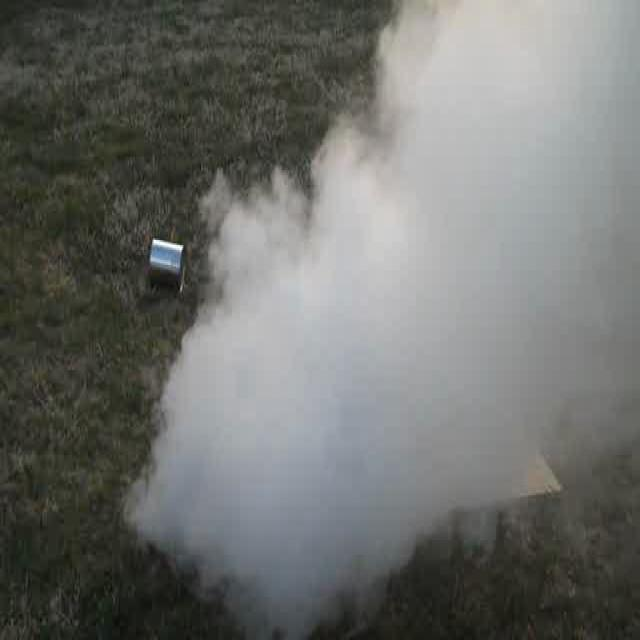Smoke: (172, 6, 636, 598)
